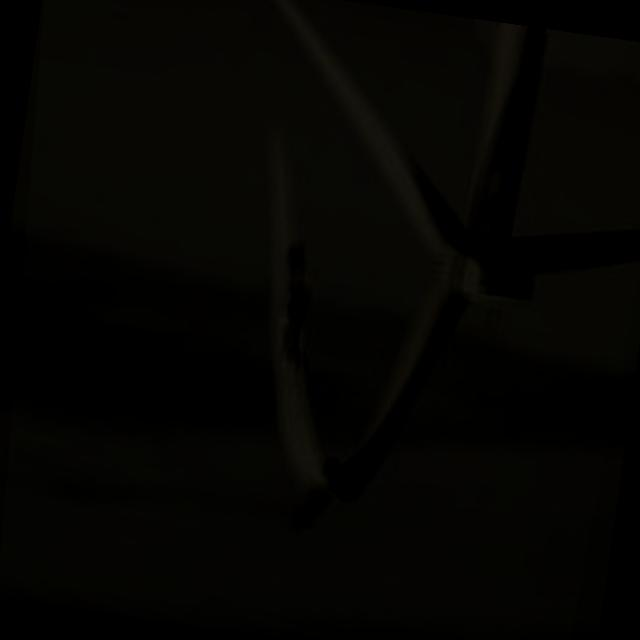crack: (218, 144, 440, 530)
